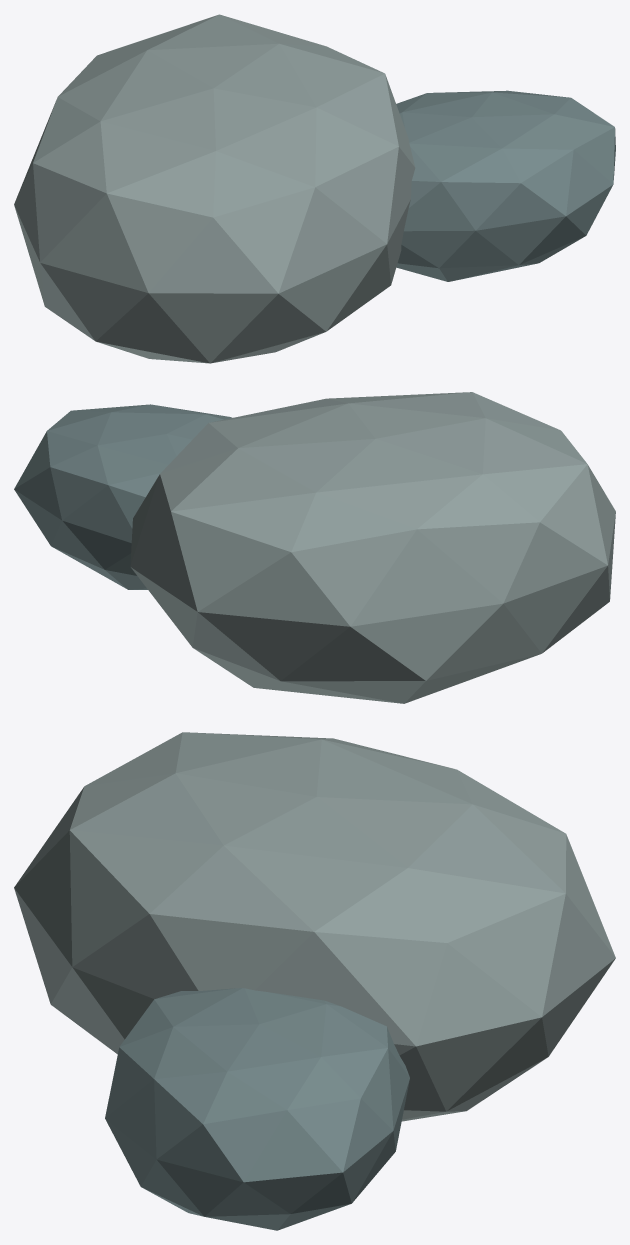
Rendered from prop_uw_rocks_a.glb.
3 renders of one model, top to bottom at view 1: azimuth 30°, elevation 25°; view 2: azimuth 150°, elevation 25°; view 3: azimuth 270°, elevation 25°, orthographic. The views are drawn at different scales.
Visible parts, largest first — view 1: uwrka_0, uwrka_1; view 2: uwrka_0, uwrka_1; view 3: uwrka_0, uwrka_1.
Boxes of the visible parts, <box> form: uwrka_0: <box>14,14,415,363</box>; uwrka_1: <box>396,90,615,281</box>; uwrka_0: <box>130,392,615,703</box>; uwrka_1: <box>14,404,232,589</box>; uwrka_0: <box>14,732,615,1121</box>; uwrka_1: <box>105,988,409,1230</box>.
Bounding box in the file's own units: 0.5892 × 0.2391 × 0.431.
